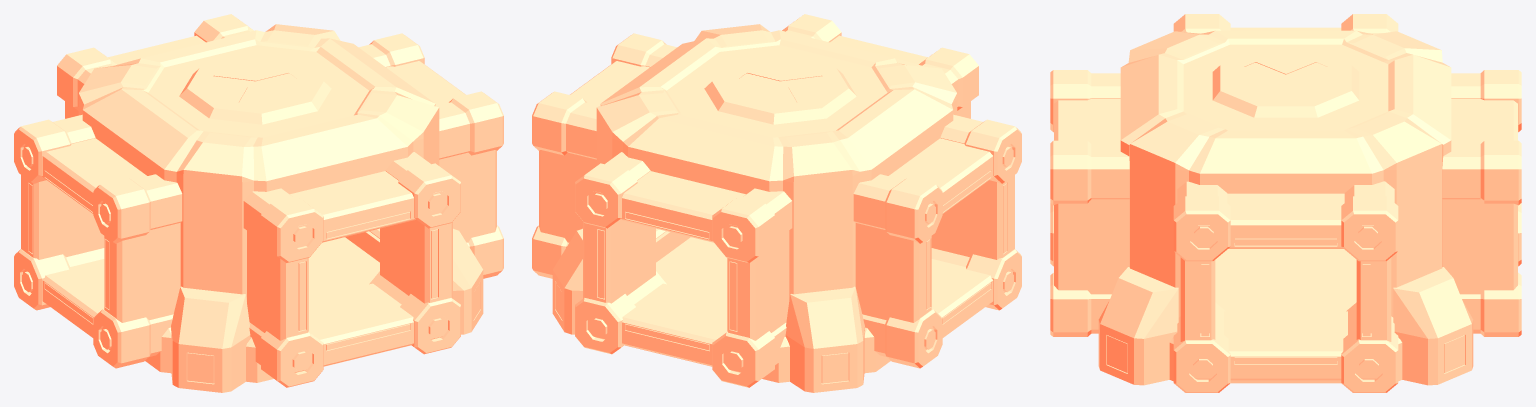
File: merger.glb
The picture shows the model from 3 angles, left to right: view 1: azimuth 30°, elevation 25°; view 2: azimuth 150°, elevation 25°; view 3: azimuth 270°, elevation 25°; orthographic projection. The views are drawn at different scales.
Parts seen in each view (by area): view 1: Body, Port.002, Port, Base, Head, Port.001, Light, Port.003; view 2: Body, Port.003, Port, Base, Head, Port.001, Light, Port.002; view 3: Body, Port.001, Base, Port.002, Port.003, Head, Light, Port.
Boxes of the visible parts, left/top/right/bottom form: Body: left=78, top=24, right=439, bottom=301; Port.002: left=243, top=152, right=460, bottom=387; Port: left=14, top=114, right=182, bottom=368; Base: left=145, top=228, right=483, bottom=392; Head: left=148, top=46, right=365, bottom=137; Port.001: left=359, top=33, right=503, bottom=278; Light: left=28, top=73, right=480, bottom=383; Port.003: left=57, top=14, right=253, bottom=118; Body: left=596, top=24, right=957, bottom=299; Port.003: left=575, top=152, right=792, bottom=387; Port: left=853, top=114, right=1021, bottom=368; Base: left=552, top=228, right=890, bottom=392; Head: left=670, top=46, right=887, bottom=137; Port.001: left=532, top=33, right=676, bottom=278; Light: left=555, top=73, right=1007, bottom=383; Port.002: left=782, top=14, right=978, bottom=118; Body: left=1120, top=30, right=1451, bottom=317; Port.001: left=1173, top=181, right=1398, bottom=392; Base: left=1098, top=249, right=1473, bottom=385; Port.002: left=1050, top=70, right=1129, bottom=336; Port.003: left=1442, top=70, right=1521, bottom=336; Head: left=1183, top=44, right=1388, bottom=129; Light: left=1107, top=62, right=1464, bottom=372; Port: left=1173, top=14, right=1398, bottom=34.
Size of the model in its own units: 1.01 by 0.5353 by 1.01.
